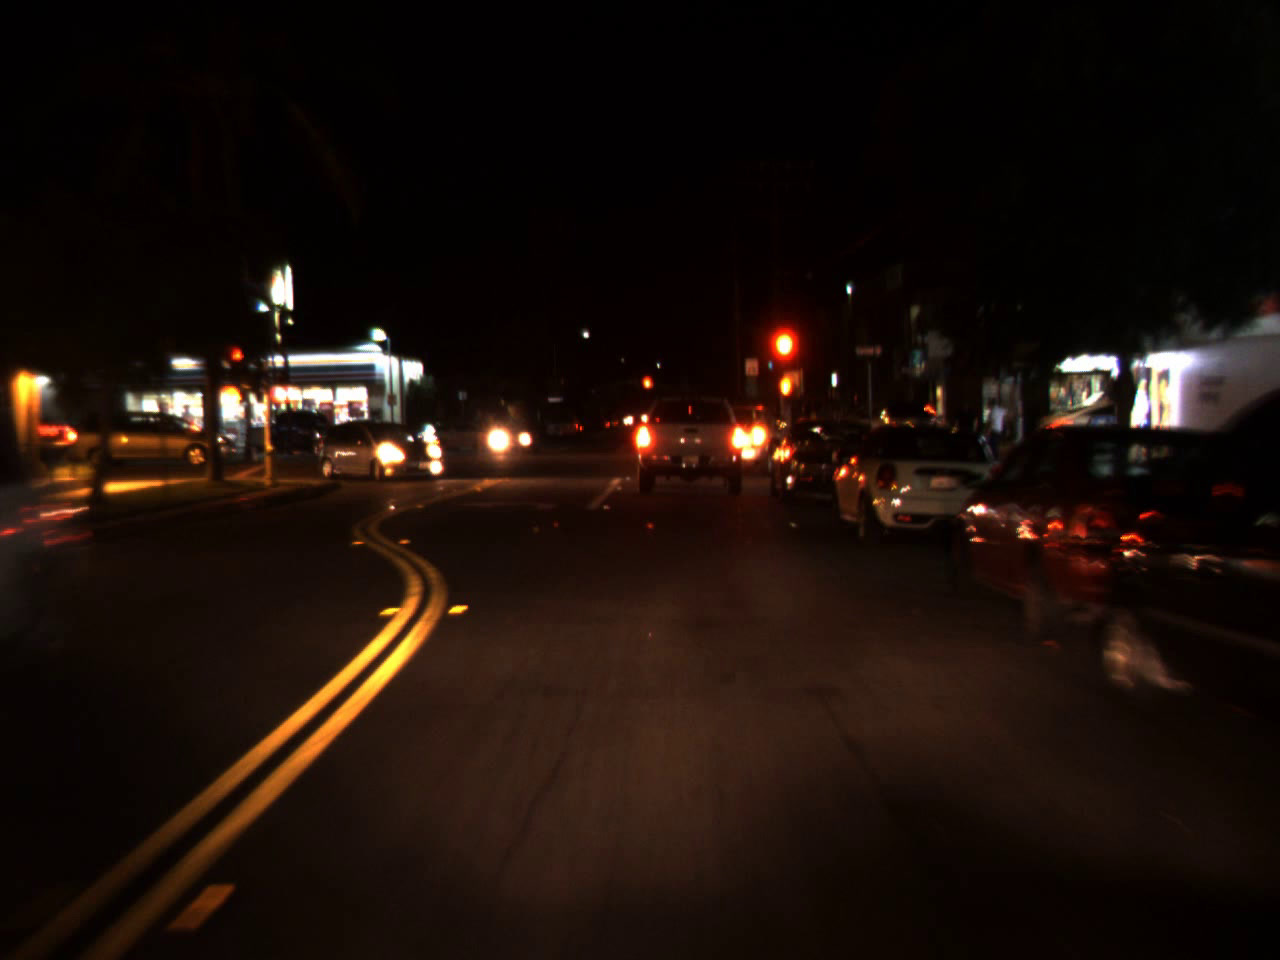stop: (769, 330, 797, 392), (226, 342, 247, 385), (640, 374, 653, 403)
